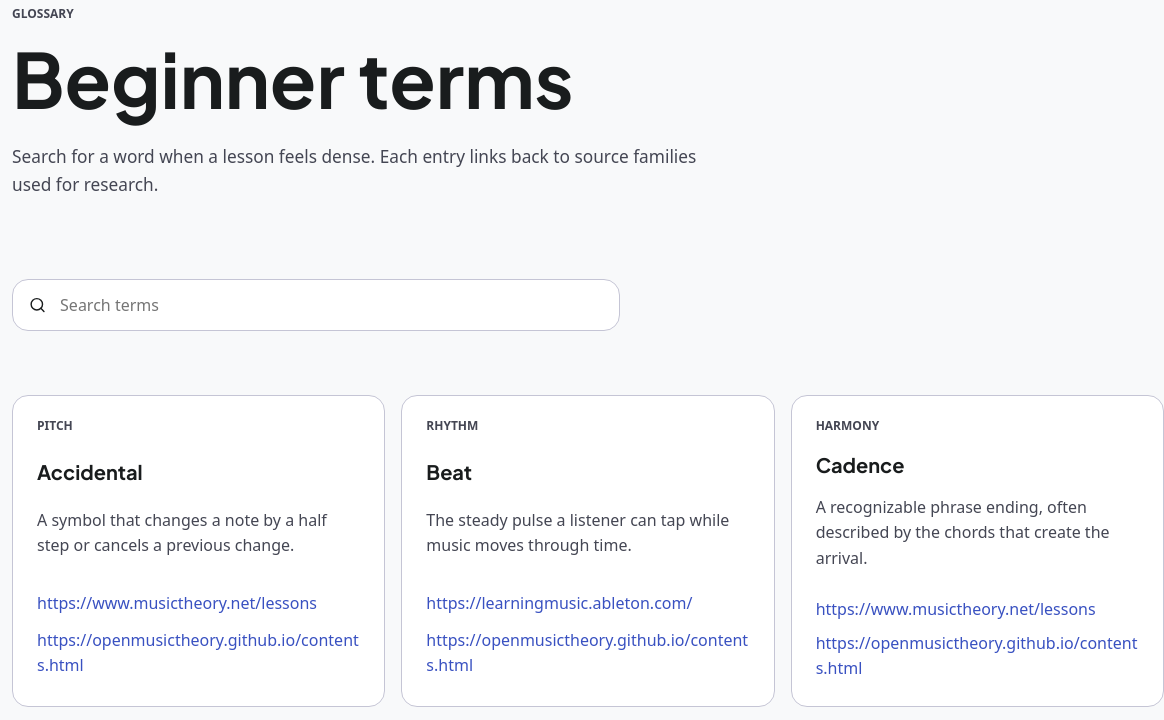
Test: GlossaryPage › filters terms by query
Type "triad" into the field with placeholder "Search terms" at (331, 306), box [58,292,603,319]
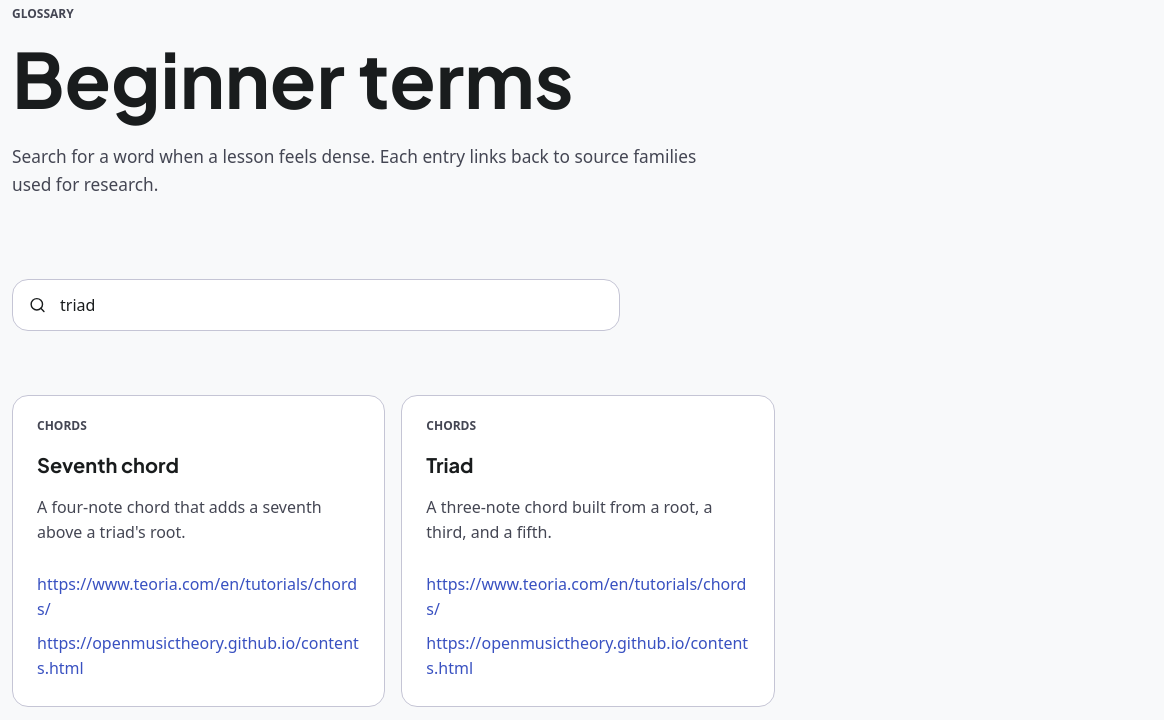
Expected: the heading "Triad" is shown, [426,452,474,477]
Result: the heading "Beat" is gone
